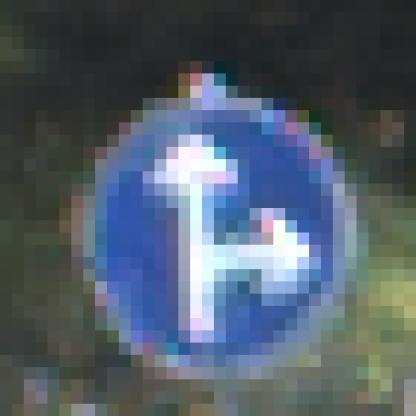Straight or Right: (72, 62, 358, 356)
